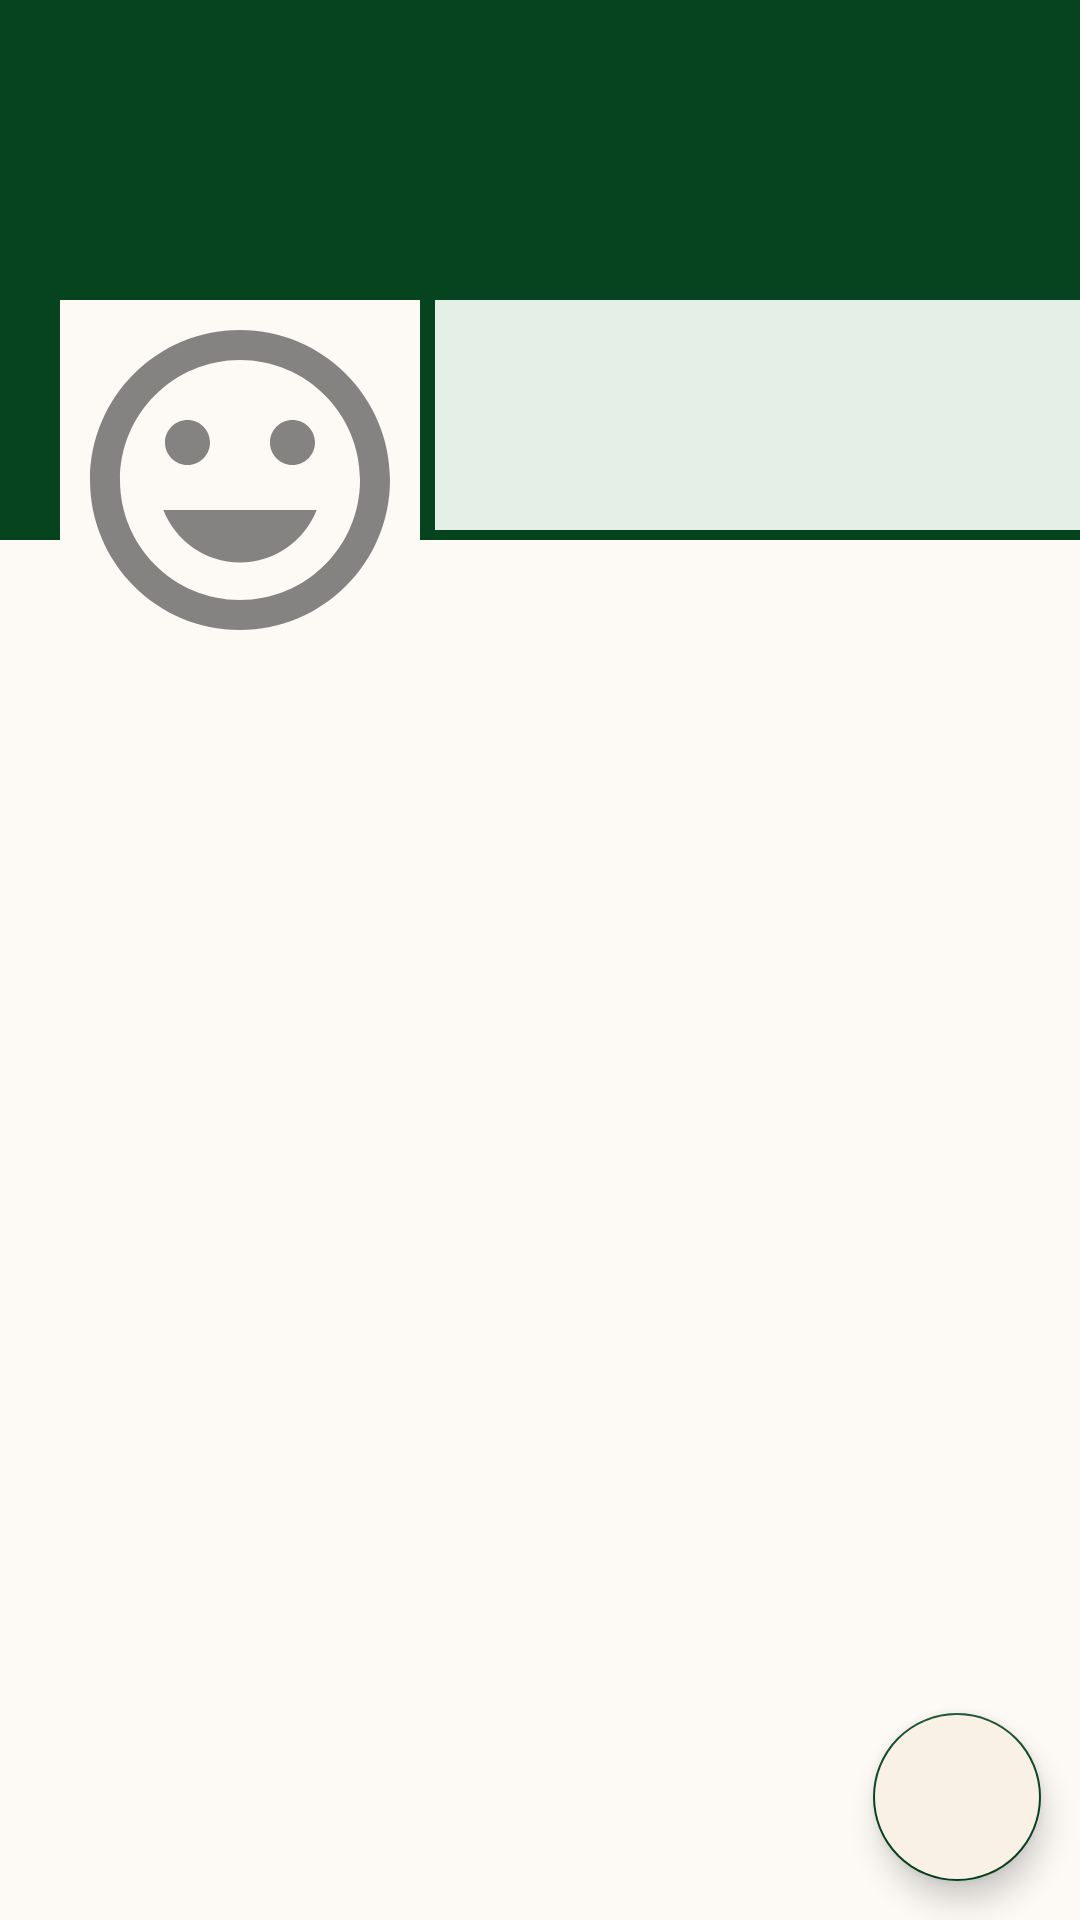

Icon click points for this 1080 × 1920 phone screenshot, format point (x, y):
profile: point (240, 480)
